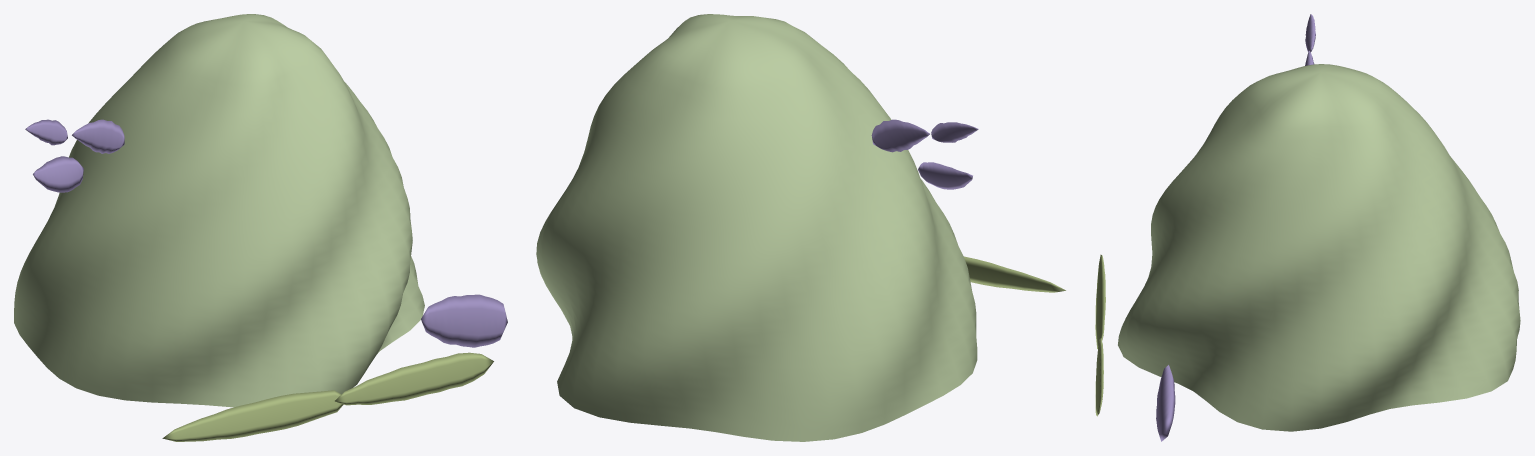
File: NPR_07_2051__MOD__VegetationElements__Topiary__DomeBush__Var-01__.glb
3 renders of one model, left to right at view 1: azimuth 30°, elevation 25°; view 2: azimuth 150°, elevation 25°; view 3: azimuth 270°, elevation 25°, orthographic. The views are drawn at different scales.
Visible parts, largest first — view 1: NPR_07_2051__MOD__VegetationElements__Topiary__DomeBush__Var; view 2: NPR_07_2051__MOD__VegetationElements__Topiary__DomeBush__Var; view 3: NPR_07_2051__MOD__VegetationElements__Topiary__DomeBush__Var.
Boxes of the visible parts, x1,y1,x2,y2 form: NPR_07_2051__MOD__VegetationElements__Topiary__DomeBush__Var: (14,14,507,441); NPR_07_2051__MOD__VegetationElements__Topiary__DomeBush__Var: (536,14,1065,441); NPR_07_2051__MOD__VegetationElements__Topiary__DomeBush__Var: (1095,14,1520,441).
Bounding box in the file's own units: 1.64 × 1.17 × 1.54.
